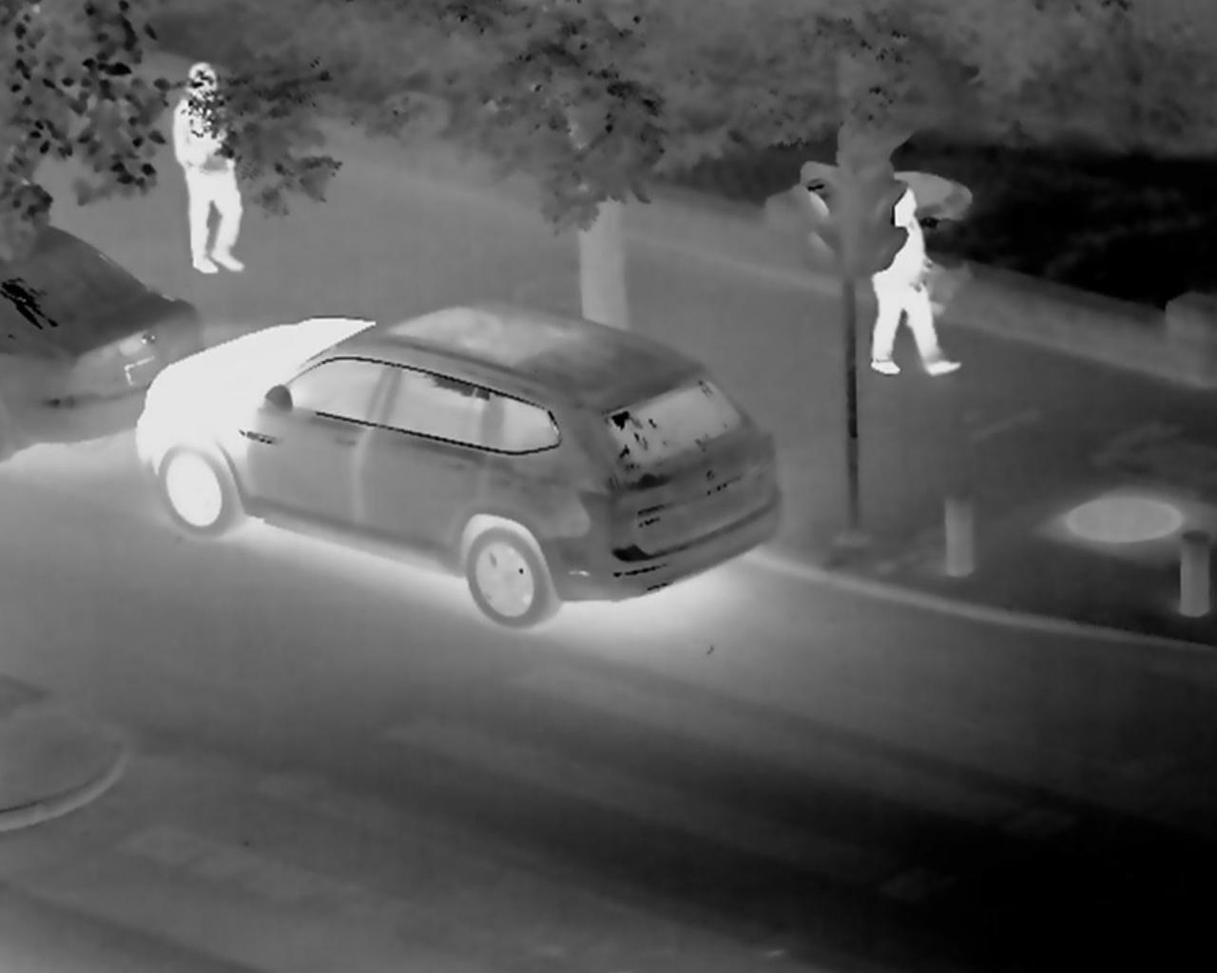person: (870, 179, 979, 395), (170, 49, 257, 265)
